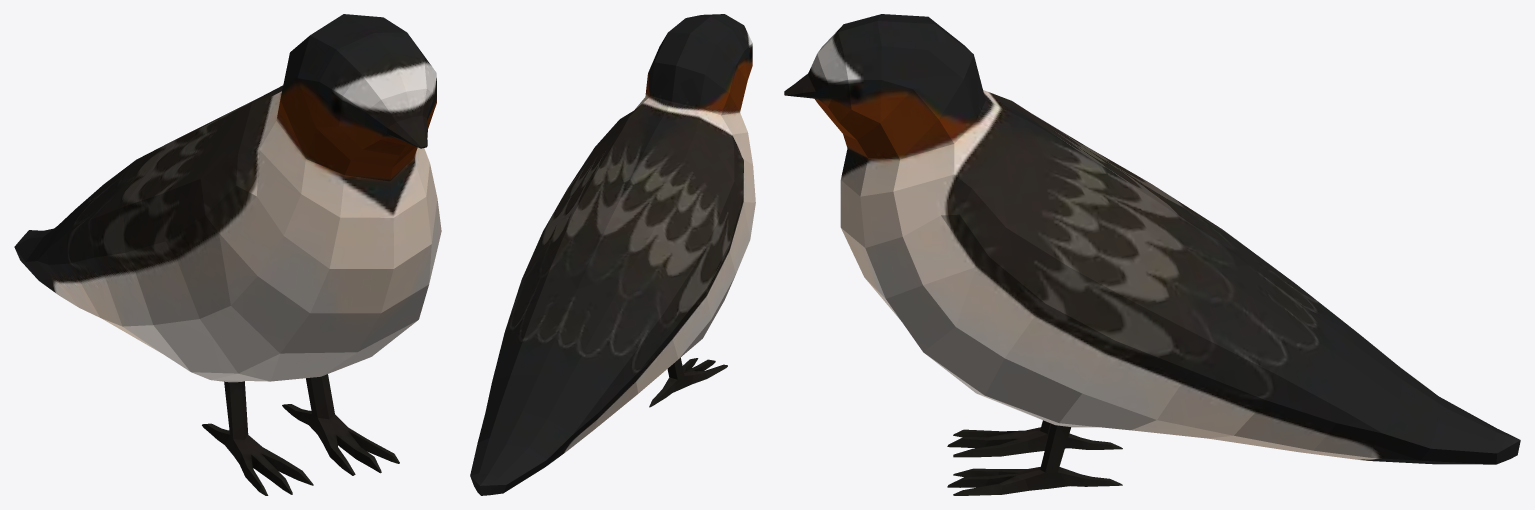
Rendered from animals-cliffswallow-035.glb.
The picture shows the model from 3 angles, left to right: view 1: azimuth 30°, elevation 25°; view 2: azimuth 150°, elevation 25°; view 3: azimuth 270°, elevation 25°; orthographic projection. The views are drawn at different scales.
Parts seen in each view (by area): view 1: CliffSwallow_Mesh; view 2: CliffSwallow_Mesh; view 3: CliffSwallow_Mesh.
Boxes of the visible parts, bbox=[...] form: CliffSwallow_Mesh: bbox=[14, 14, 441, 495]; CliffSwallow_Mesh: bbox=[470, 14, 755, 495]; CliffSwallow_Mesh: bbox=[784, 14, 1520, 495].
Bounding box in the file's own units: 0.7101 × 1.34 × 2.
Materials: 1 (1 with a texture image).
